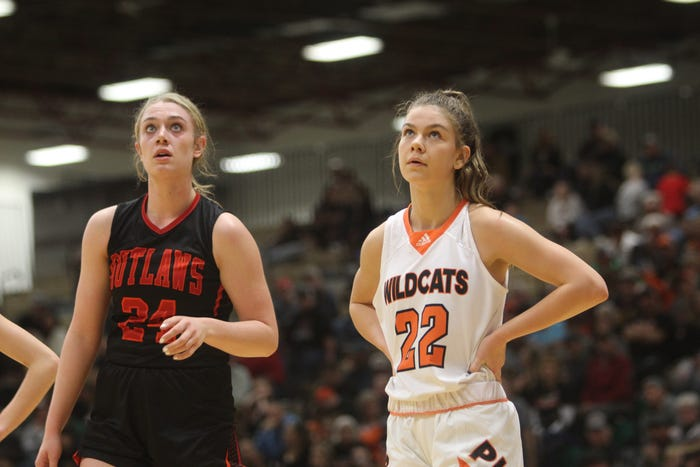face: (381, 87, 484, 189), (123, 97, 212, 184)
player: (343, 78, 612, 467), (42, 80, 289, 467)
